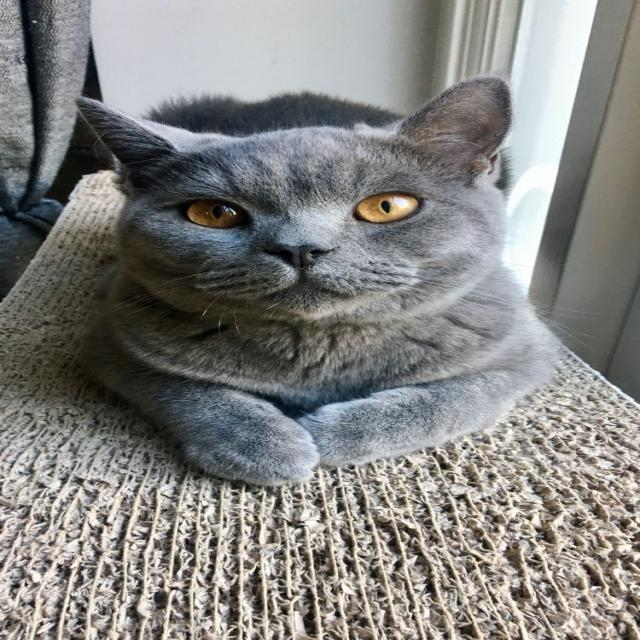british shorthair: (78, 76, 559, 485)
